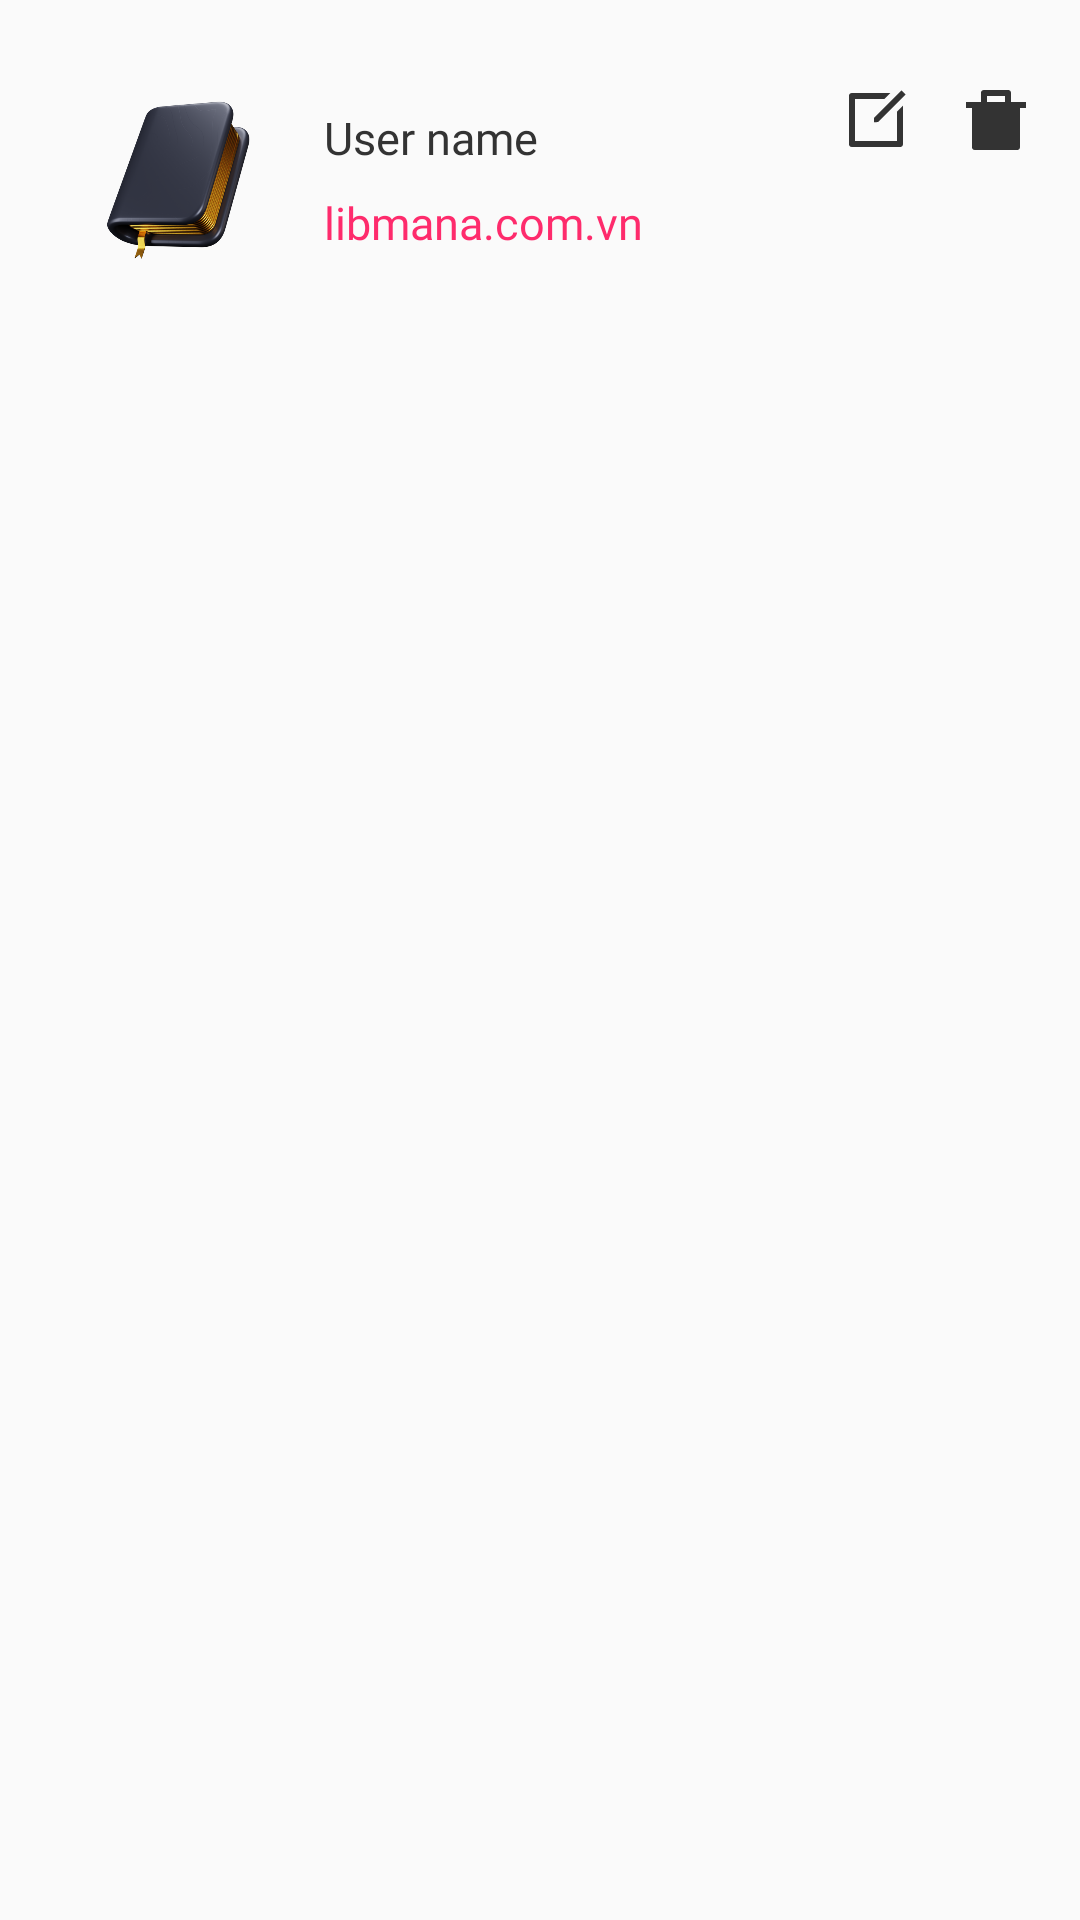

Screen size 1080px×1920px. Icon name, then its box in pixels as (x1, y1, x2, y2):
delete: (966, 90, 1026, 150)
edit: (849, 90, 906, 147)
